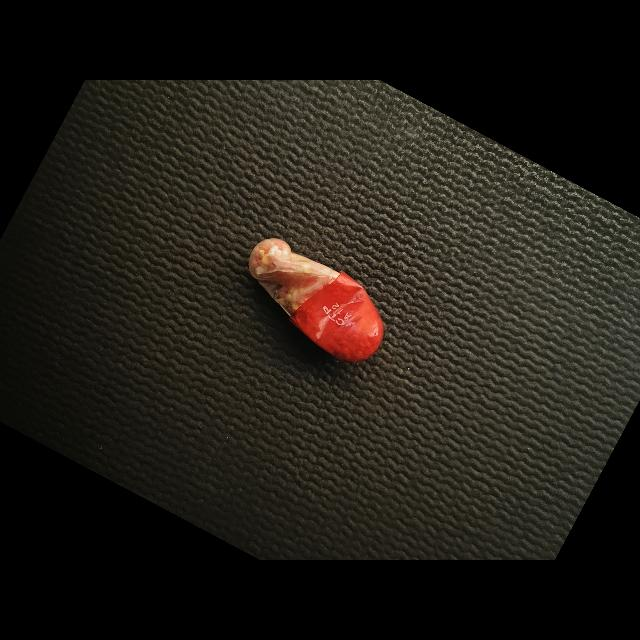Defective Capsule: (249, 238, 383, 362)
